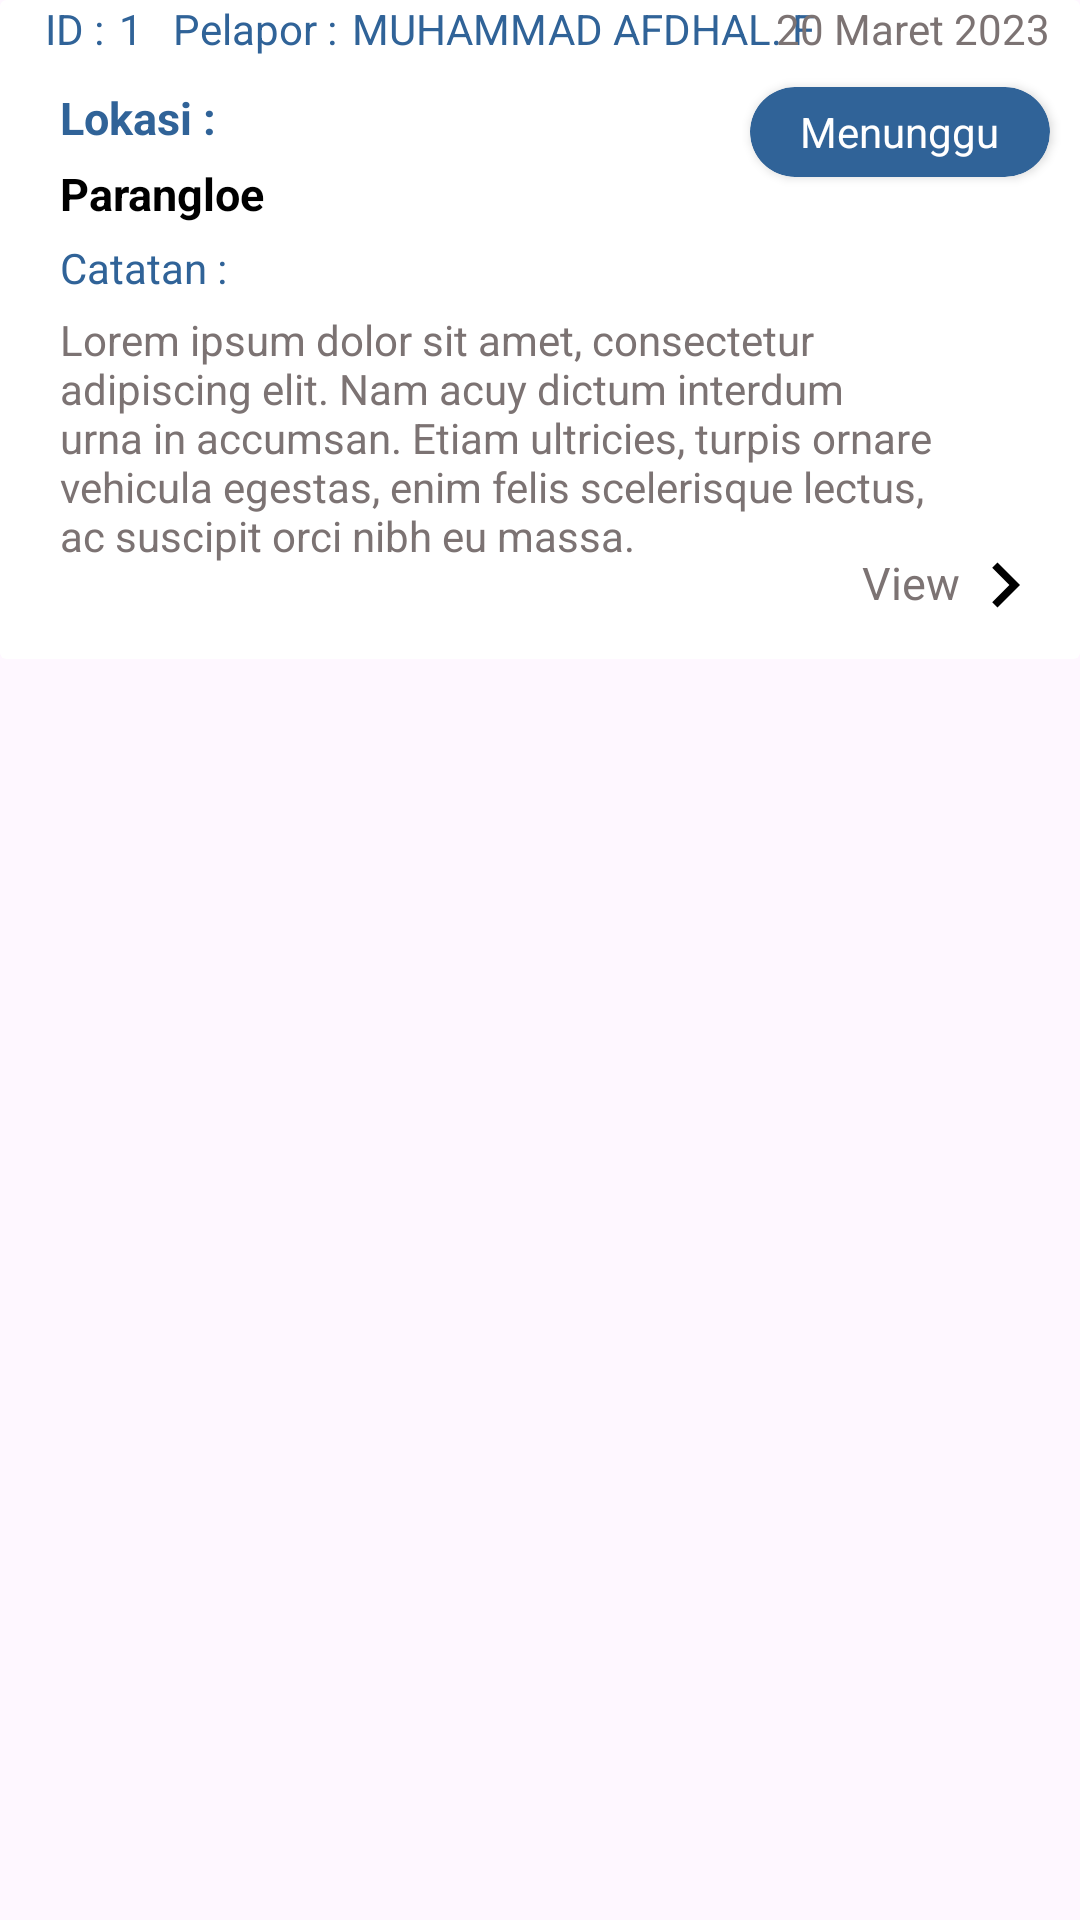

Named icons in this screenshot (1080×1920) and their bounding boxes, [x1, y1, x2, y2]:
navigate next: [992, 562, 1020, 608]
